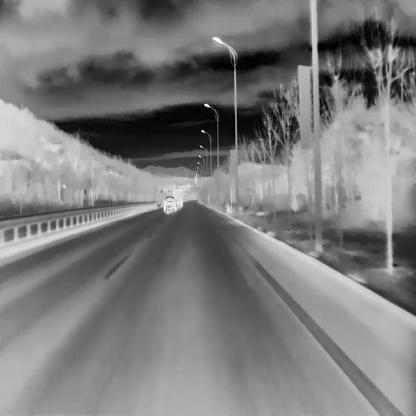car: (162, 195, 177, 212)
truck: (172, 188, 182, 206)
